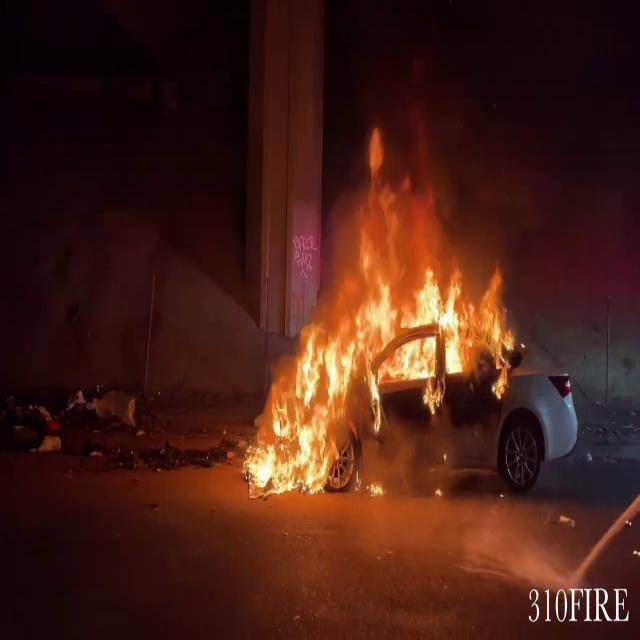Fire: (358, 256, 524, 417), (245, 306, 359, 507)
Smoke: (403, 0, 592, 309)
